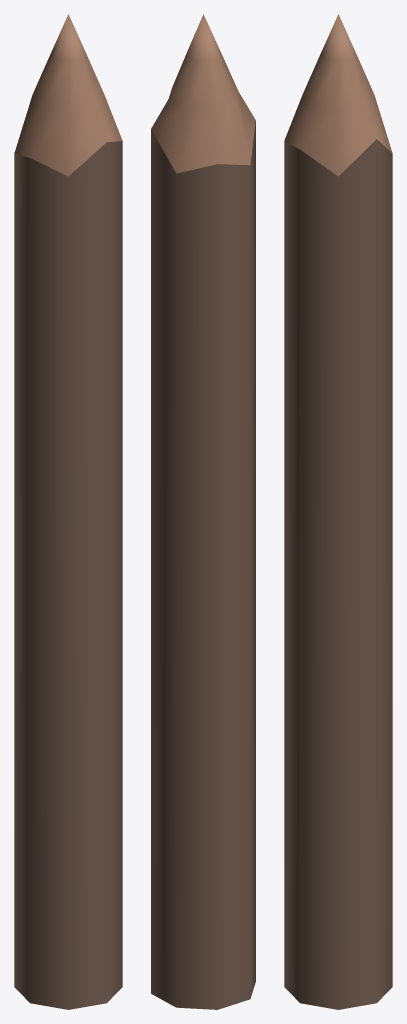
Rendered from Palisade_Pole.fbx.
The picture shows the model from 3 angles, left to right: view 1: azimuth 90°, elevation 25°; view 2: azimuth 150°, elevation 25°; view 3: azimuth 270°, elevation 25°; orthographic projection.
Parts seen in each view (by area): view 1: Palisade_Pole; view 2: Palisade_Pole; view 3: Palisade_Pole.
Part boxes in pixels (left/top/right/bottom): Palisade_Pole: left=14, top=14, right=122, bottom=1009; Palisade_Pole: left=151, top=14, right=255, bottom=1009; Palisade_Pole: left=284, top=14, right=392, bottom=1009.
Bounding box in the file's own units: 0.26 × 2.58 × 0.26.
